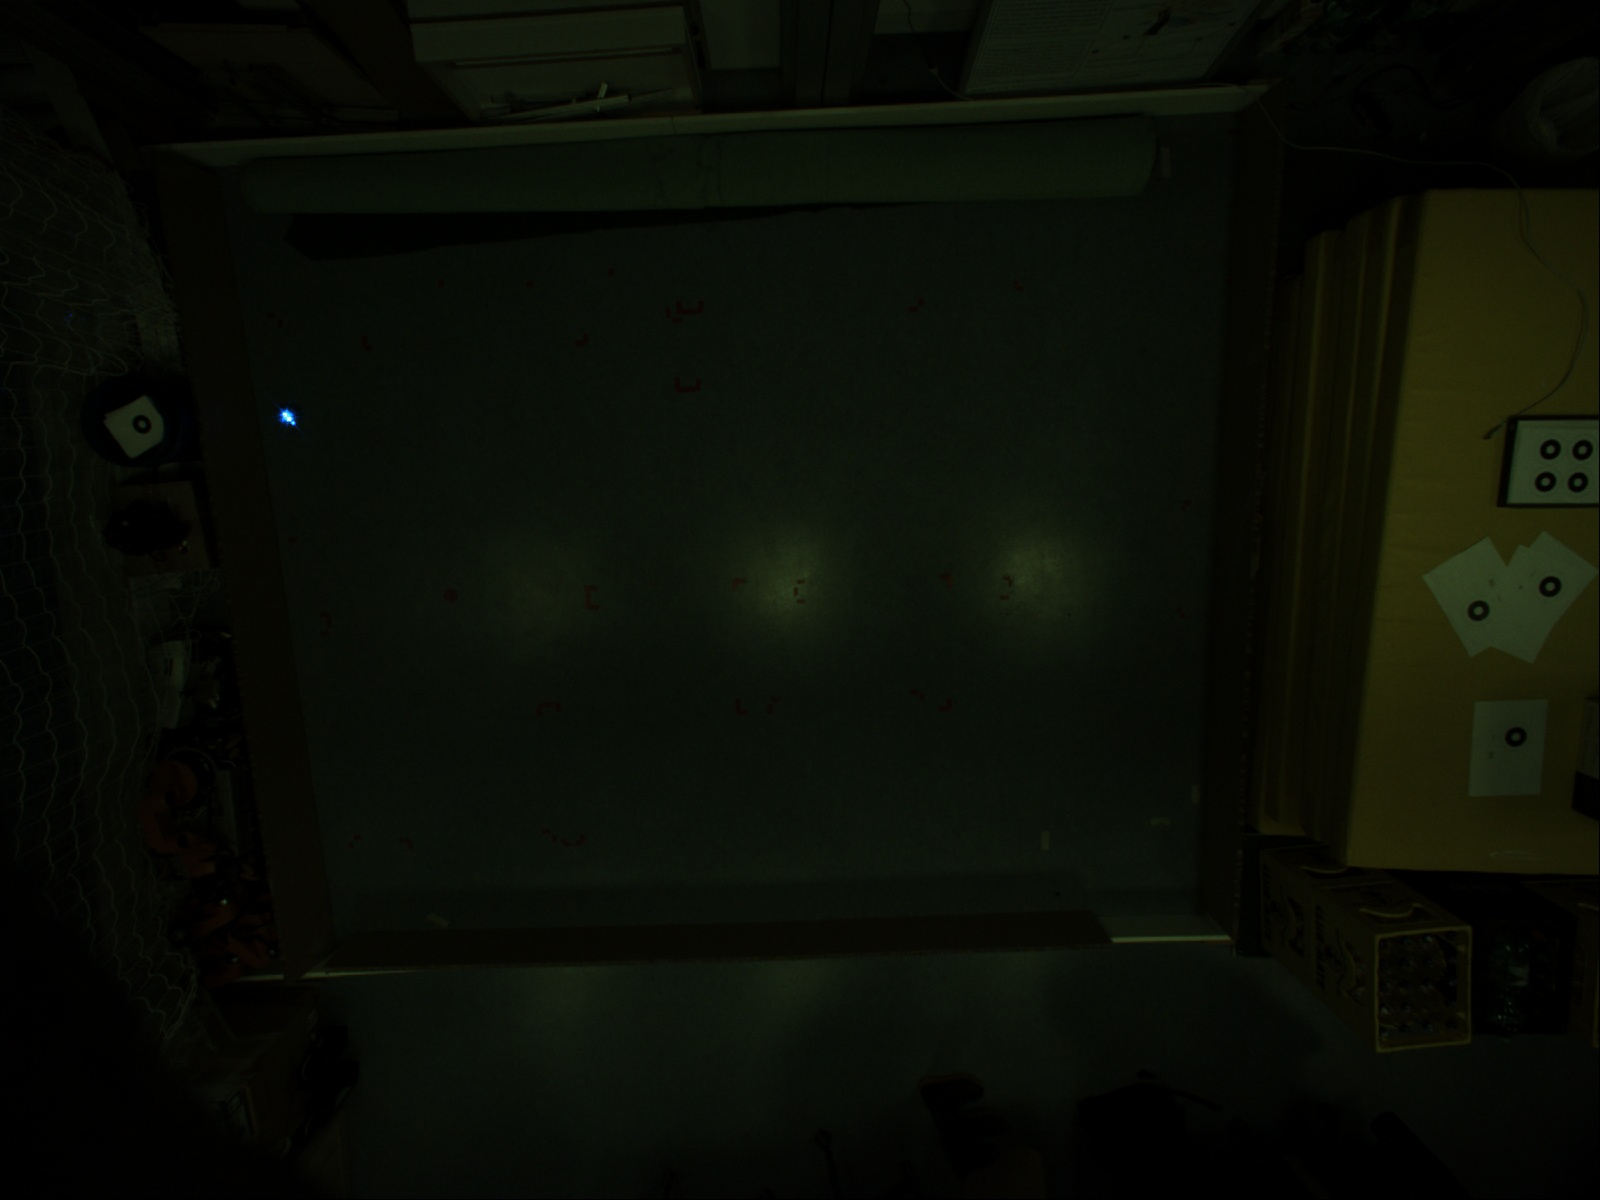sphero: (275, 405, 299, 429)
